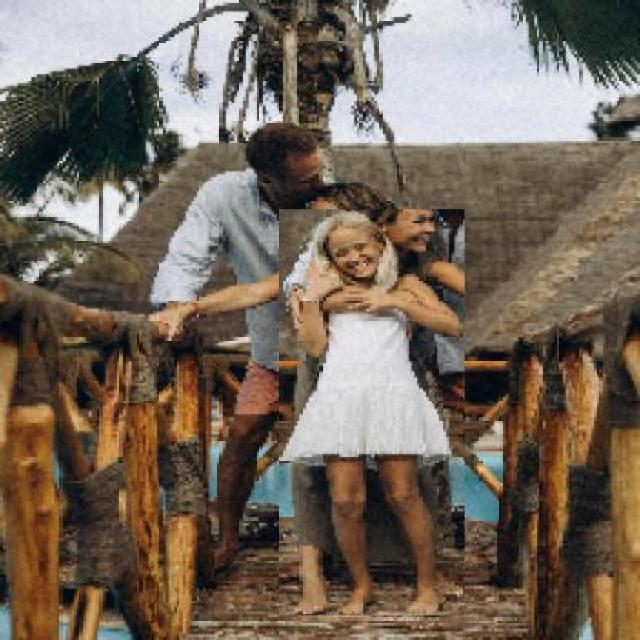child: (278, 209, 464, 617)
